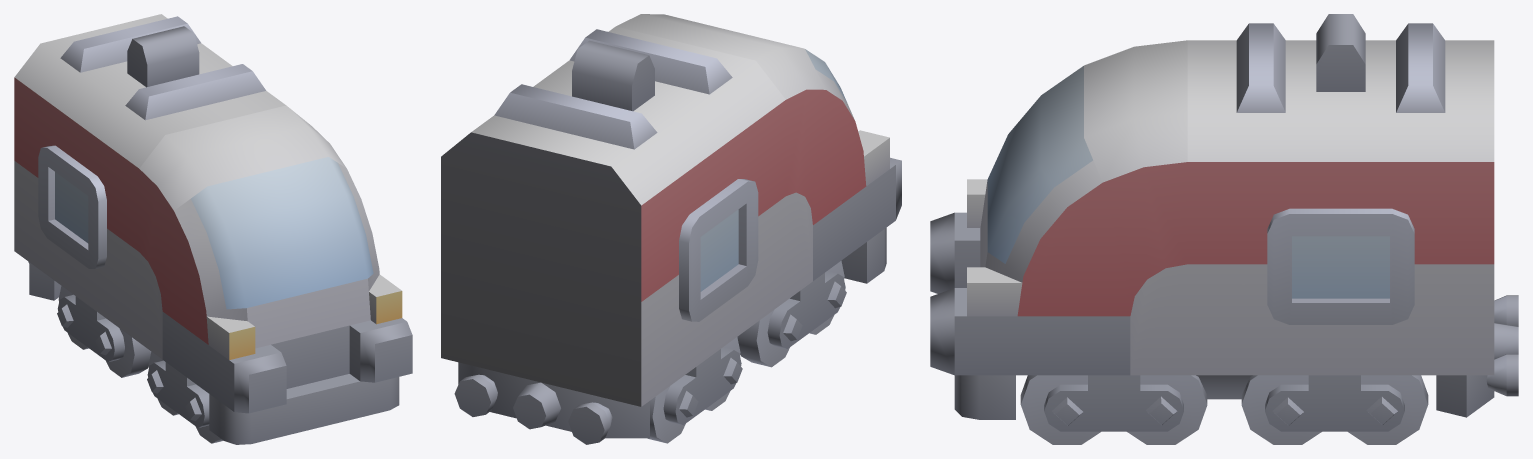
Rendered from train-front.glb.
The picture shows the model from 3 angles, left to right: view 1: azimuth 30°, elevation 25°; view 2: azimuth 150°, elevation 25°; view 3: azimuth 270°, elevation 25°; orthographic projection. The views are drawn at different scales.
Visible parts, largest first — view 1: train-front; view 2: train-front; view 3: train-front.
Boxes of the visible parts, x1,y1,x2,y2 form: train-front: [14, 14, 412, 444]; train-front: [441, 14, 901, 444]; train-front: [930, 14, 1518, 444].
Size of the model in its own units: 1.1 by 1.68 by 2.4.
